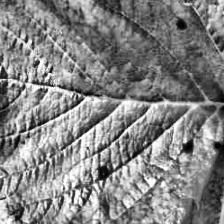Leaf Spot: (0, 0, 224, 224), (161, 0, 224, 145)
